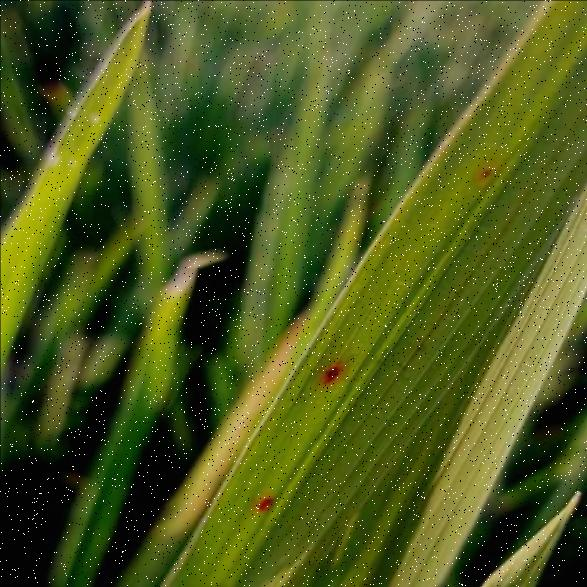Brown_Spot: (311, 346, 352, 390), (462, 152, 499, 187), (248, 488, 288, 514)
